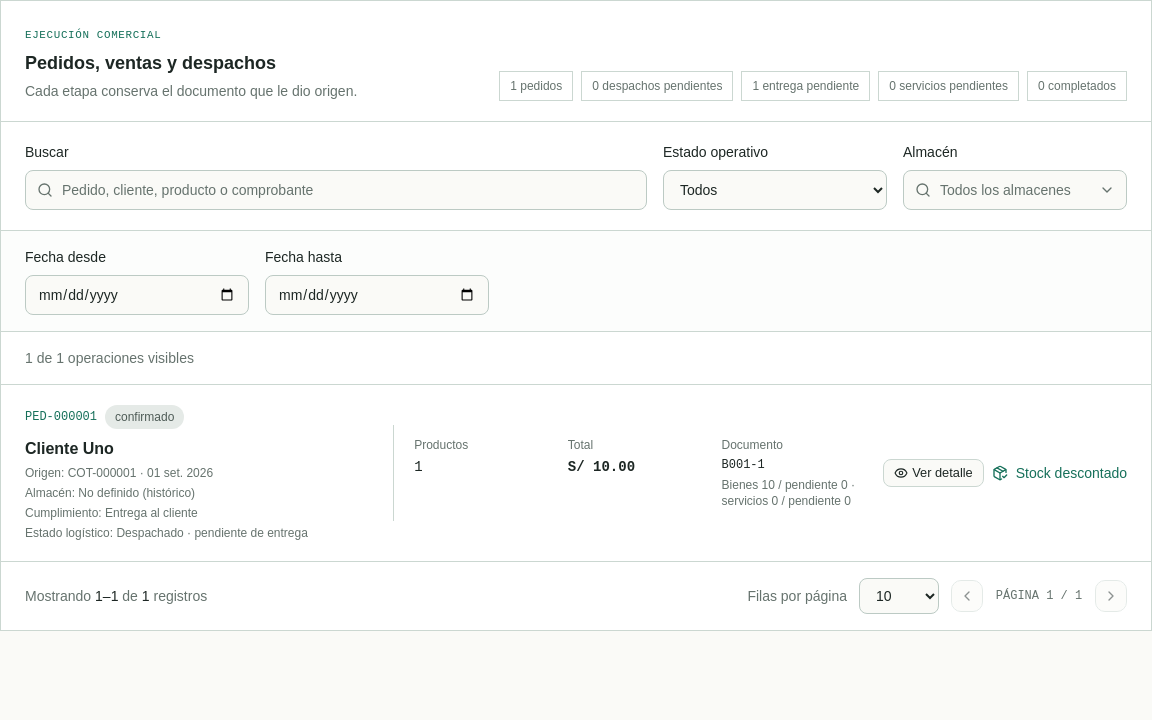
Test case: PanelOperacionesVenta › indica en el detalle que las cantidades de Ventas son despachadas, no entregadas
Click the button "Ver detalle": coordinates (933, 473) [883,459,984,487]
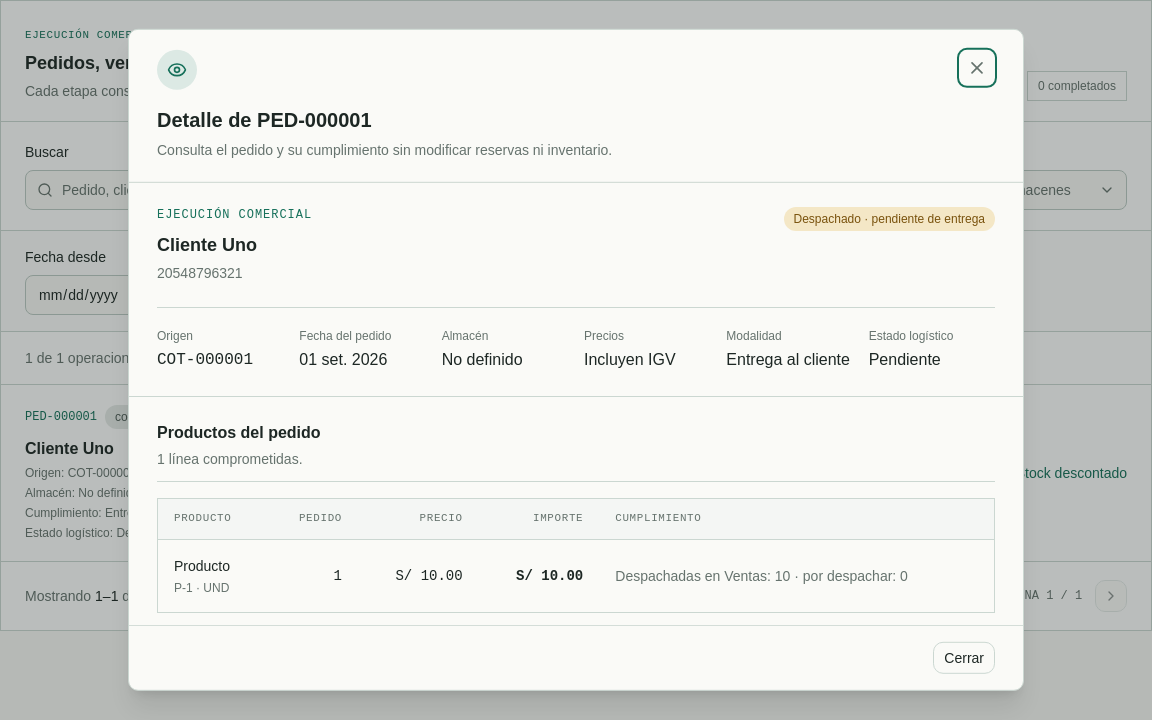
Result: the text "Despachadas en Ventas: 10 · por despachar: 0" is shown at [599,539,994,611]
